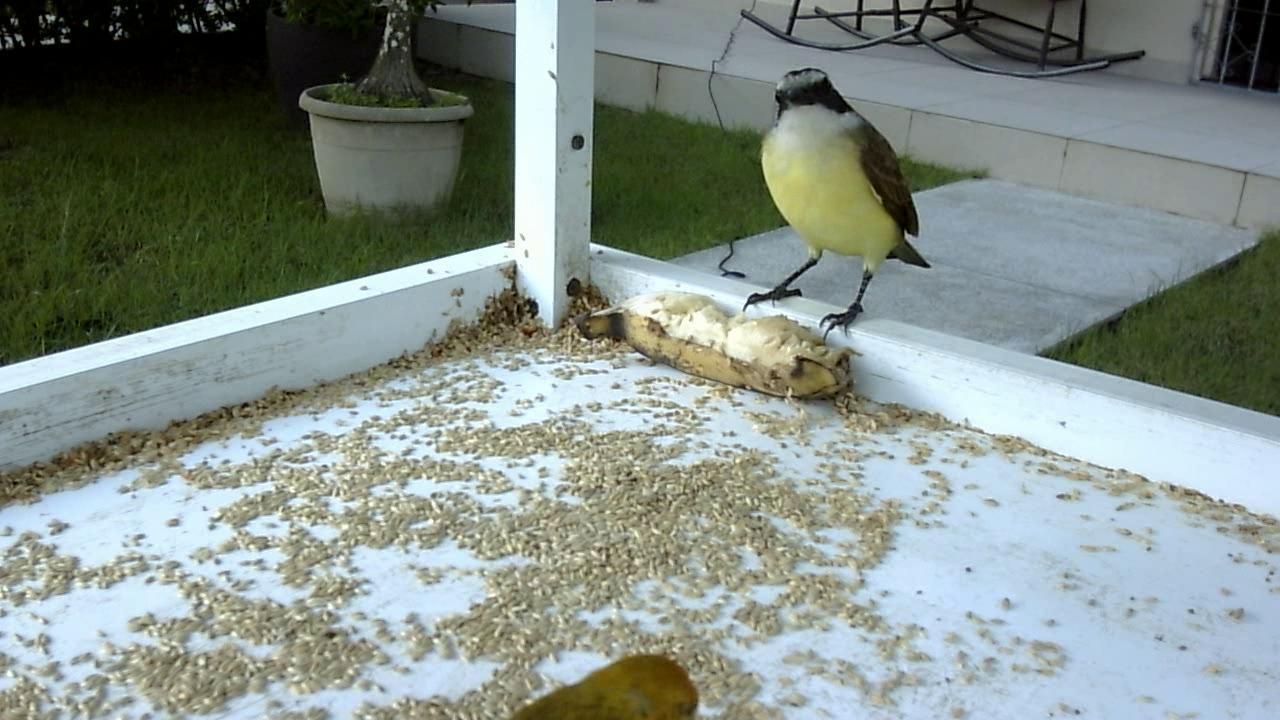bem_te_vi: (704, 48, 950, 356)
canario_do_amazonas: (493, 642, 709, 720)
